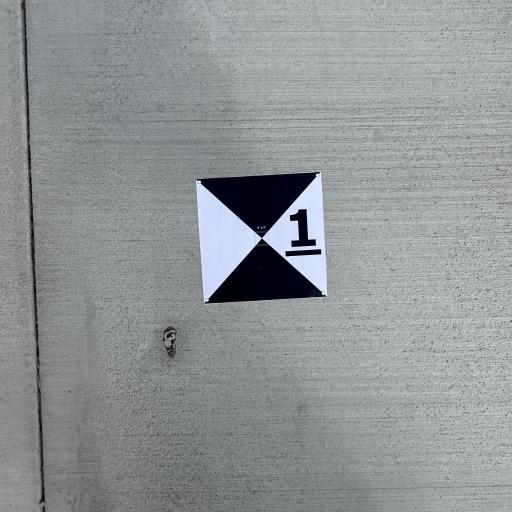target1: (190, 169, 340, 308)
